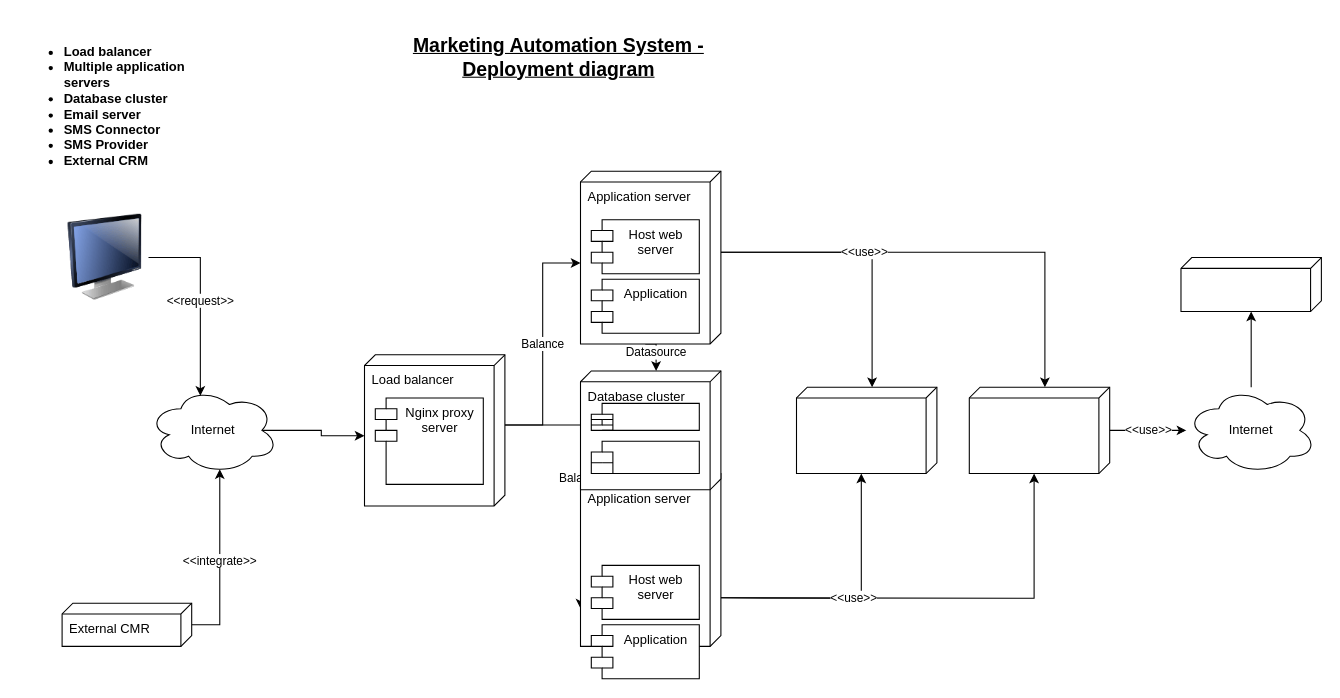
Some shapes in this 1340 by 698 pixel diagram are drawn without their labels. The centre of each missing label's shape, as x and y in pixels:
"DB master" belongs at [644,416].
"DB slave" belongs at [644,457].
"Email server" belongs at [866,430].
"SMS Gate" belongs at [1039,430].
"SMS provider" belongs at [1250,284].
"user" belongs at [105,257].
